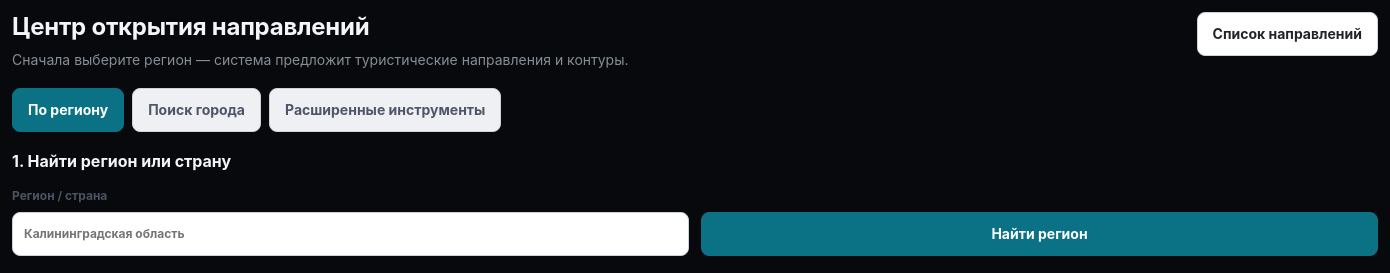
AdminDiscoveryPage › shows city geo-search fallback tab
What coordinates should you click on to do the following:
click the button "Поиск города"
I would click on:
 (197, 110)
Its box is [132,88,261,132].
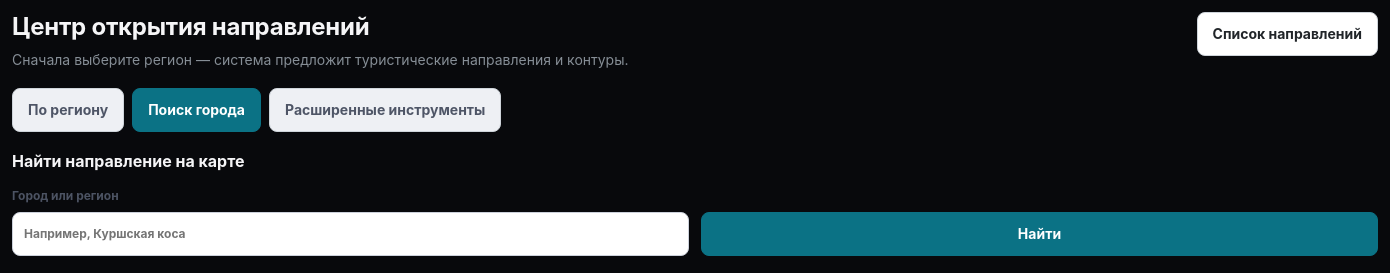
Check: the element with test id "destination-geo-search" is shown, box [12,148,1378,256]
